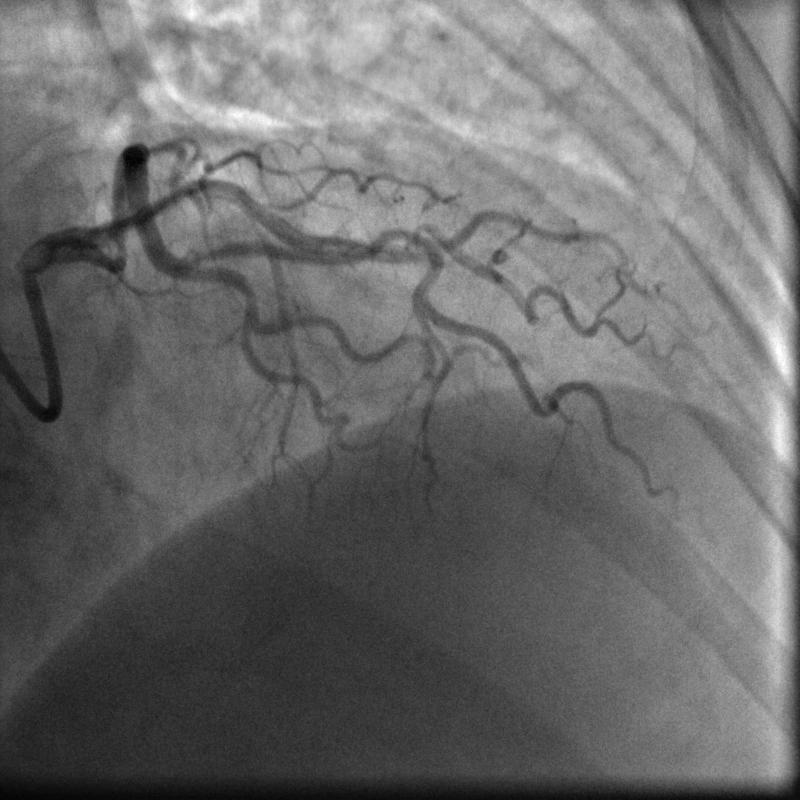Stenosis: (103, 218, 131, 266)
